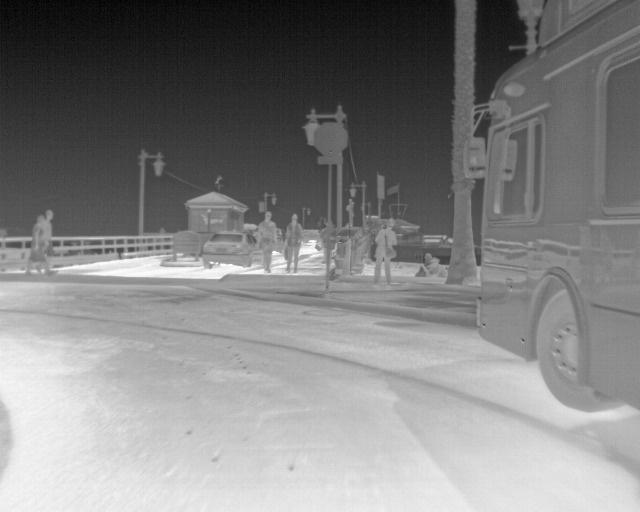bicycle: (203, 229, 252, 269)
empty: (370, 218, 401, 285), (27, 216, 56, 277), (281, 214, 308, 272), (255, 210, 279, 272), (44, 207, 56, 251), (414, 251, 433, 277)
